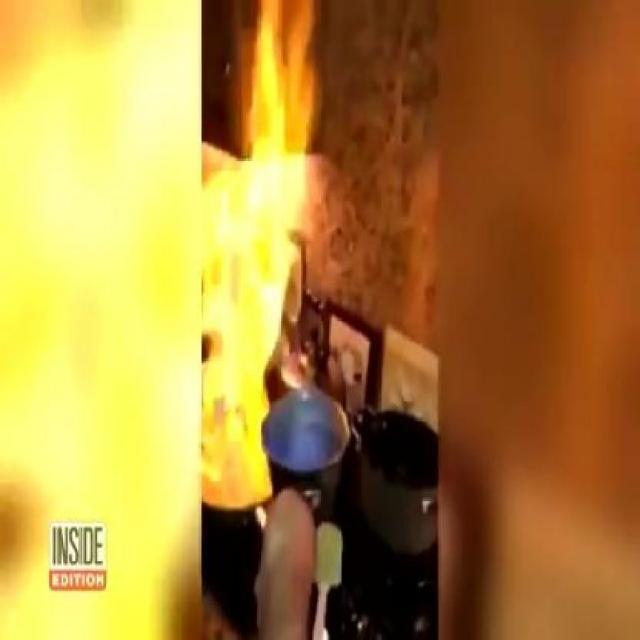fire: (221, 88, 307, 394)
